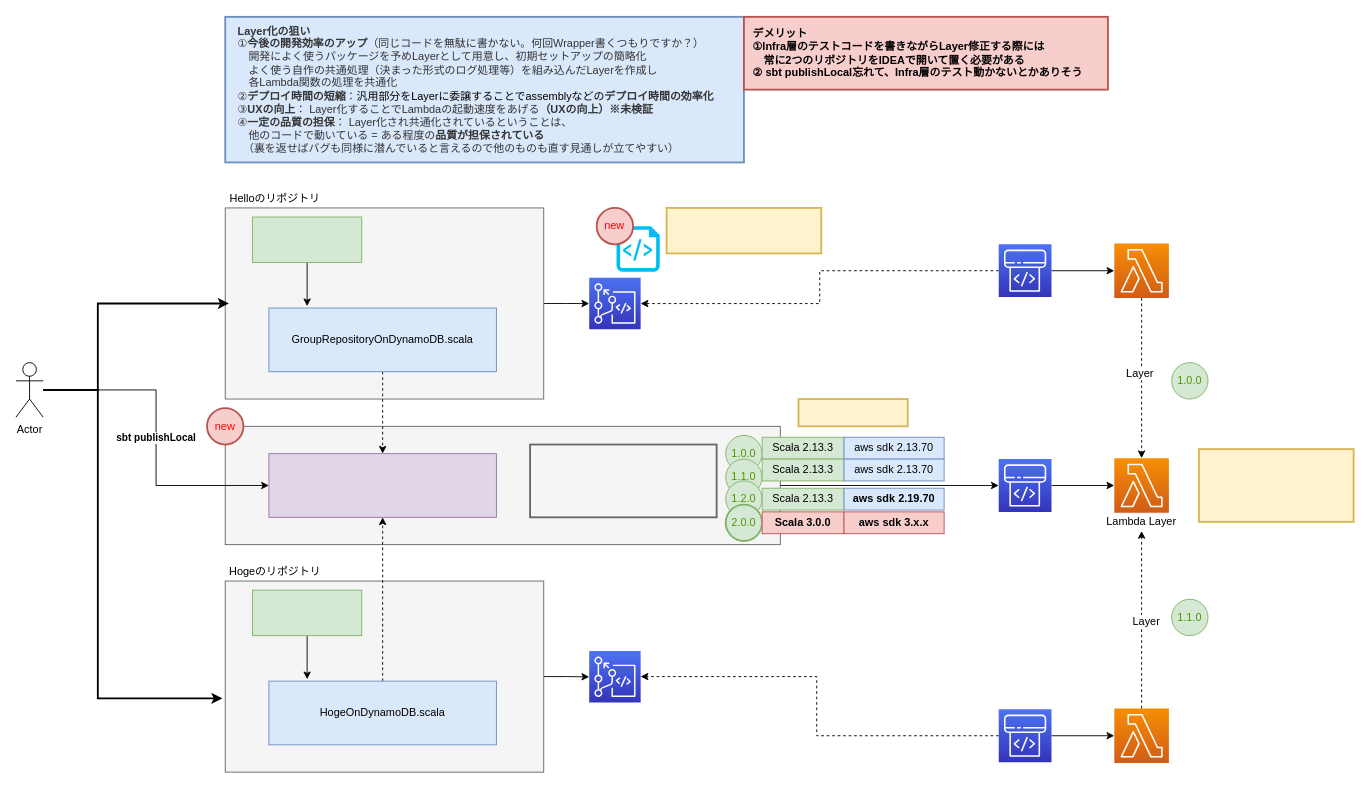
The diagram is 1370 pixels wide and 796 high, and some of its shapes have lost their labels. Each missing label, with the centre of its shape:
DynamoDBWrapper.scala: point 382,485
HelloWorld.scala: point 307,239
Hoge.scala: point 307,612
テンプレート layer バージョンの指定: point 743,230
ライフサイクル: point 852,412
汎用的なWrapper系を置く （例）DynamoDB, SQS, S3など: point 623,480
課題 ・各バージョンが ① Scala のバージョン ② SDKのバージョン で動作するか情報が必要: point 1276,485
